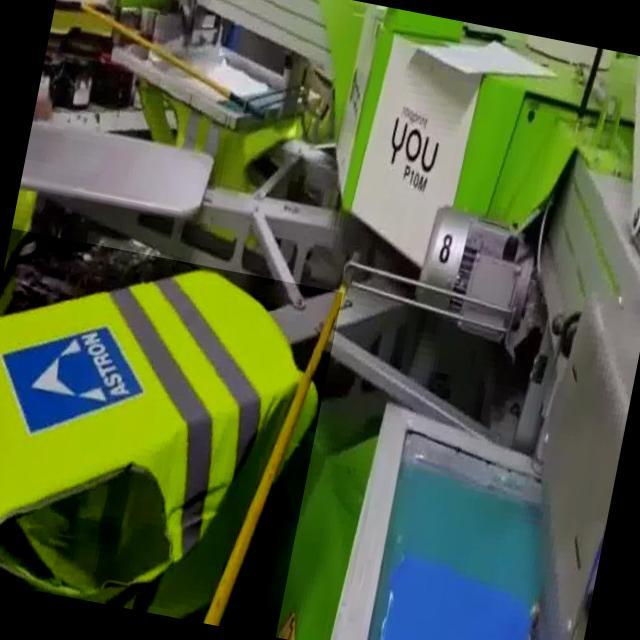Safety Vest: (0, 228, 342, 637)
